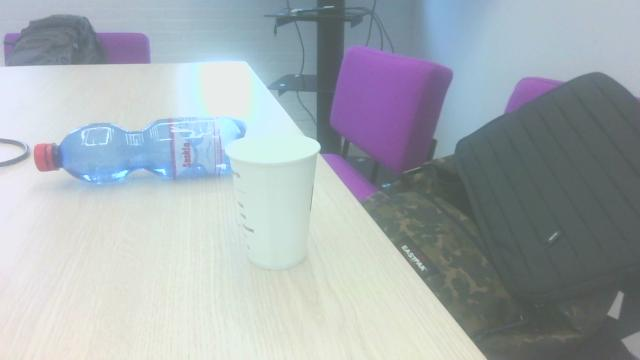cup: (222, 128, 325, 273)
plastic_bottle: (31, 110, 249, 189)
